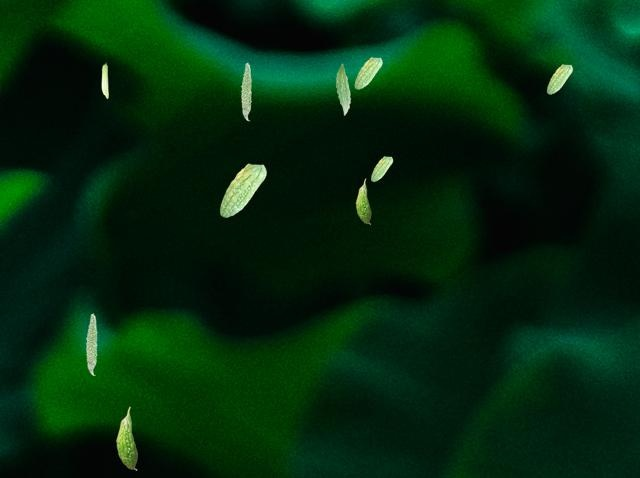ampalaya: (219, 163, 267, 218), (115, 406, 138, 470), (354, 56, 382, 89), (335, 63, 351, 116), (546, 64, 573, 94), (85, 313, 97, 376), (355, 178, 371, 224), (240, 62, 252, 121), (370, 156, 393, 182), (101, 62, 109, 99)
